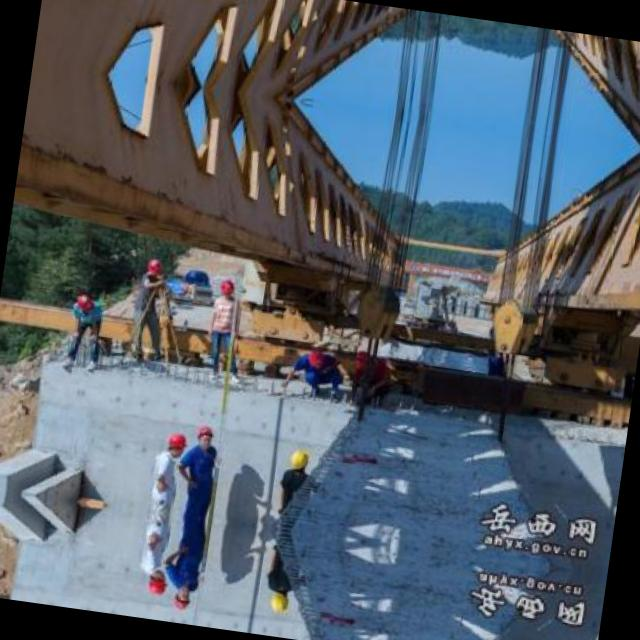helmet: (285, 444, 315, 477), (212, 272, 244, 302), (266, 584, 296, 616), (138, 254, 168, 283), (163, 429, 190, 461), (144, 566, 171, 598), (170, 586, 198, 616), (194, 418, 221, 449), (348, 344, 374, 373), (75, 288, 101, 315), (303, 344, 327, 369)
